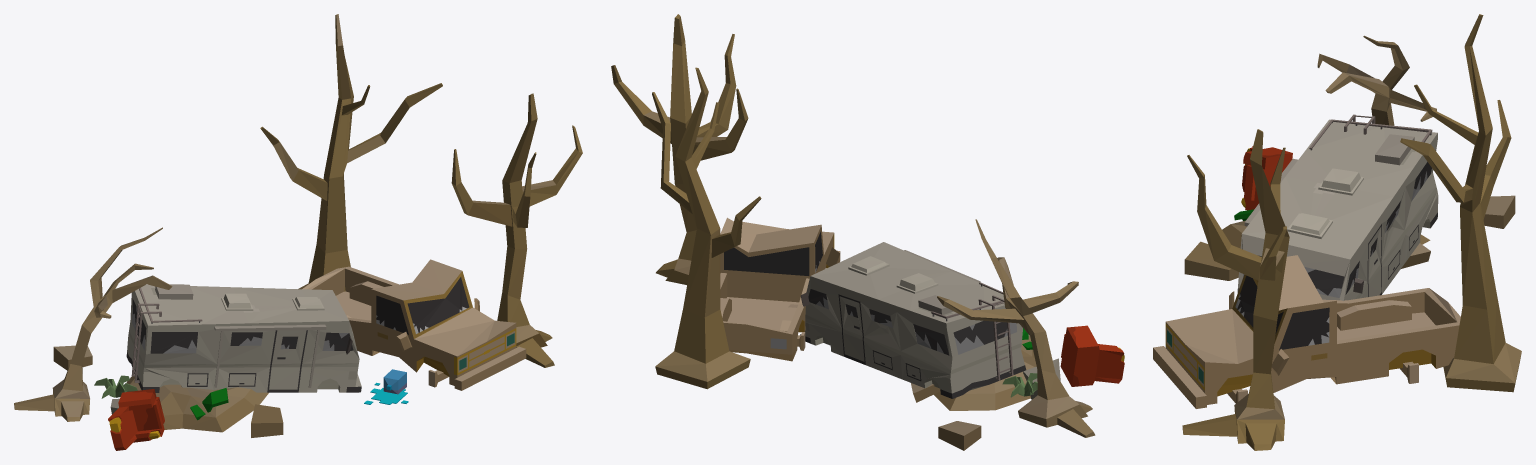
File: up_Car_06.FBX
The picture shows the model from 3 angles, left to right: view 1: azimuth 30°, elevation 25°; view 2: azimuth 150°, elevation 25°; view 3: azimuth 270°, elevation 25°; orthographic projection. The views are drawn at different scales.
Visible parts, largest first — view 1: Car_06; view 2: Car_06; view 3: Car_06.
Part boxes in pixels (left/top/right/bottom): Car_06: left=14, top=14, right=582, bottom=450; Car_06: left=611, top=14, right=1124, bottom=450; Car_06: left=1153, top=14, right=1521, bottom=450.
Size of the model in its own units: 357 by 200 by 178.
1 material, 1 textured.
